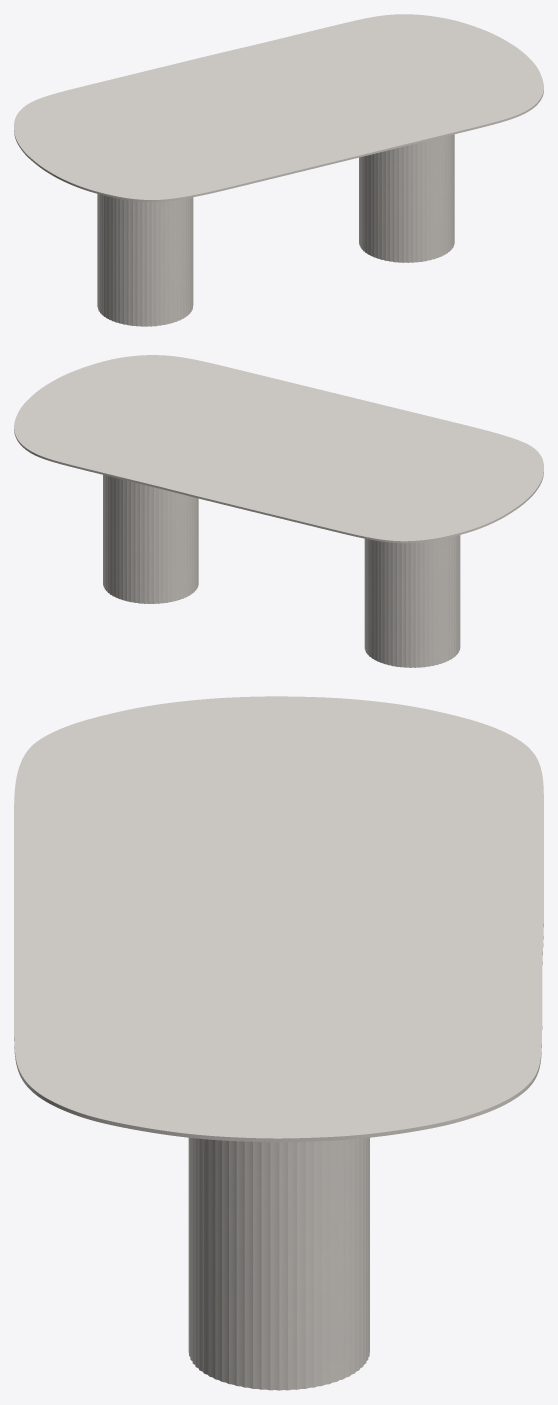
The model's file is pearlwhite_oval_facet_ripplesecond.glb.
3 renders of one model, top to bottom at view 1: azimuth 30°, elevation 25°; view 2: azimuth 150°, elevation 25°; view 3: azimuth 270°, elevation 25°, orthographic. The views are drawn at different scales.
Parts seen in each view (by area): view 1: facet_oval, ripplesecond; view 2: facet_oval, ripplesecond; view 3: facet_oval, ripplesecond.
Part boxes in pixels (box(x1,y1,x2,y2)): facet_oval: box(14, 14, 543, 201); ripplesecond: box(97, 134, 454, 326); facet_oval: box(14, 355, 543, 543); ripplesecond: box(103, 475, 460, 667); facet_oval: box(14, 696, 543, 1142); ripplesecond: box(188, 1137, 369, 1390).
Size of the model in its own units: 7.5 by 2.5 by 3.8.
Materials: 1 (1 with a texture image).
